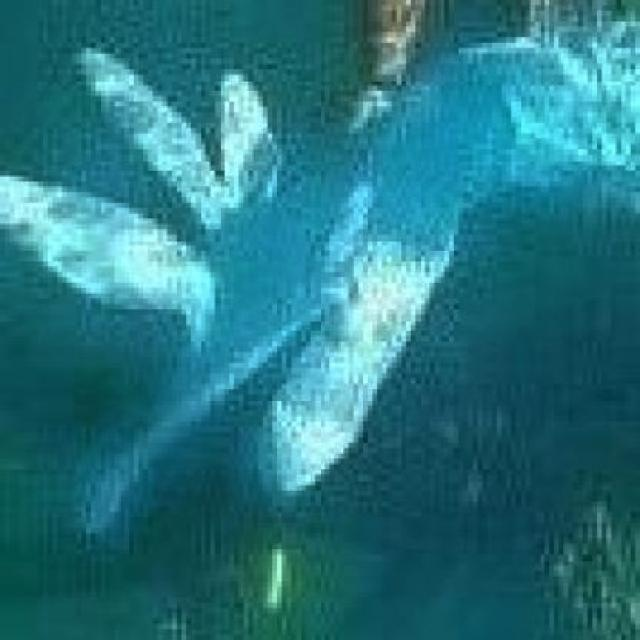glove: (0, 0, 540, 534)
